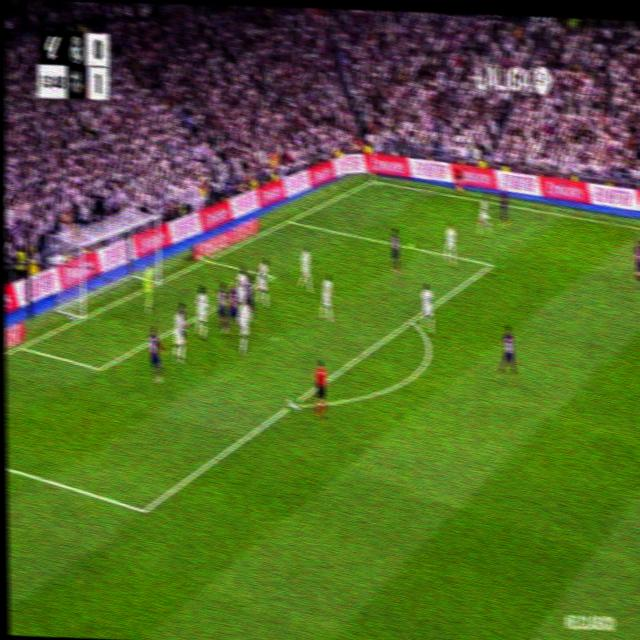bigarea_bottom_inner: (135, 495, 151, 525)
bigarea_top_inner: (479, 251, 504, 280)
bigarea_top_outter: (285, 212, 295, 226)
bottom_arc_area_intersection: (285, 392, 300, 415)
corner: (365, 173, 378, 185)
smallarea_bottom_inner: (93, 357, 104, 379)
smallarea_bottom_outter: (15, 337, 26, 354)
smallarea_top_outter: (200, 252, 212, 267)
top_arc_area_intersection: (405, 310, 416, 329)
